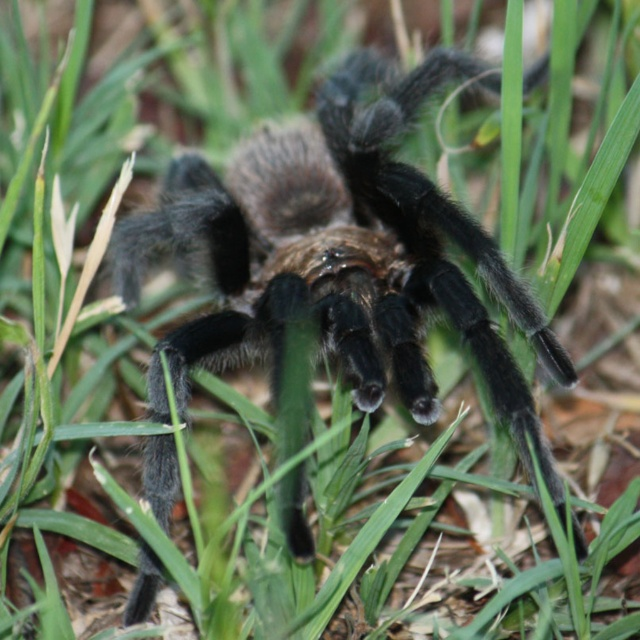Spider: (110, 37, 590, 628)
